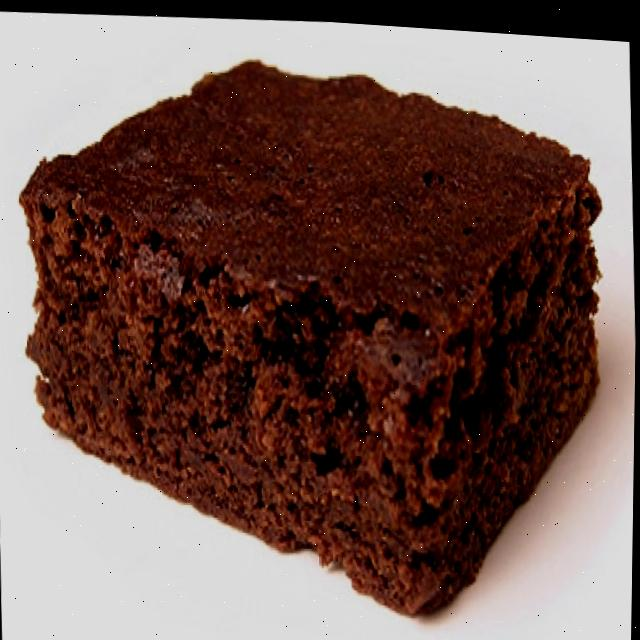蛋糕甜品: (0, 11, 626, 624)
